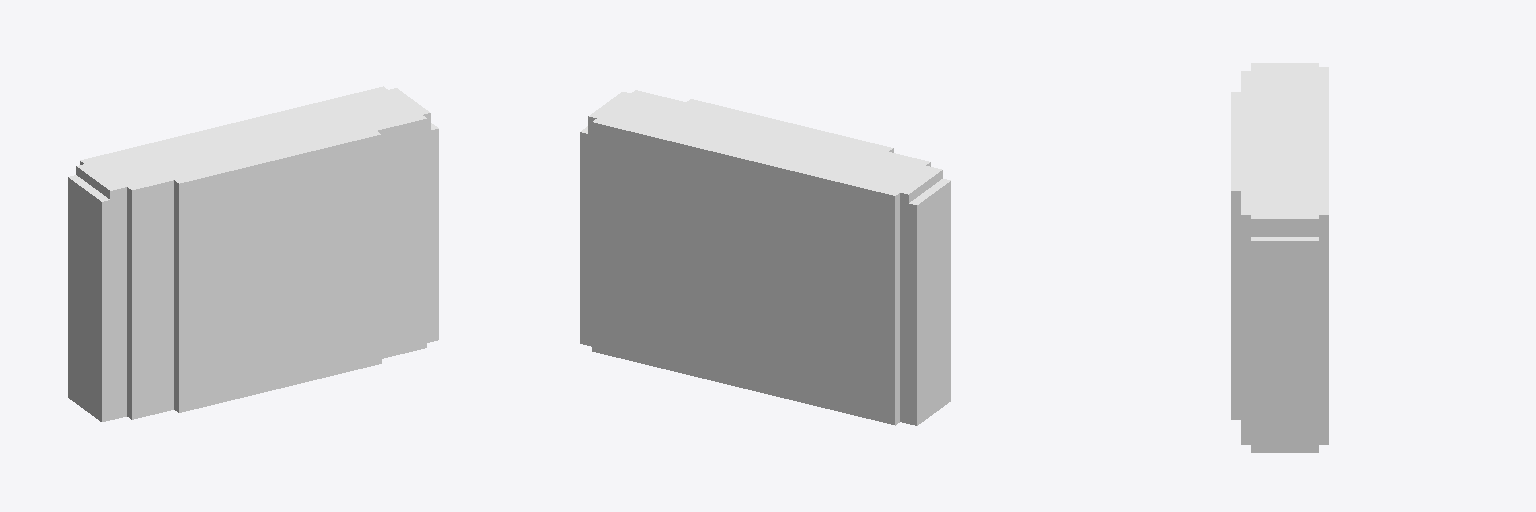
File: blank-other16bit-cart.obj
3 views of the same model, side by side, from view 1: azimuth 30°, elevation 25°; view 2: azimuth 150°, elevation 25°; view 3: azimuth 270°, elevation 25° (orthographic).
Parts seen in each view (by area): view 1: blank-other16bit-cart; view 2: blank-other16bit-cart; view 3: blank-other16bit-cart.
Boxes of the visible parts, <box> form: blank-other16bit-cart: <box>68,86,438,421</box>; blank-other16bit-cart: <box>580,90,950,425</box>; blank-other16bit-cart: <box>1231,63,1328,452</box>.
Bounding box in the file's own units: 40 × 26 × 10.